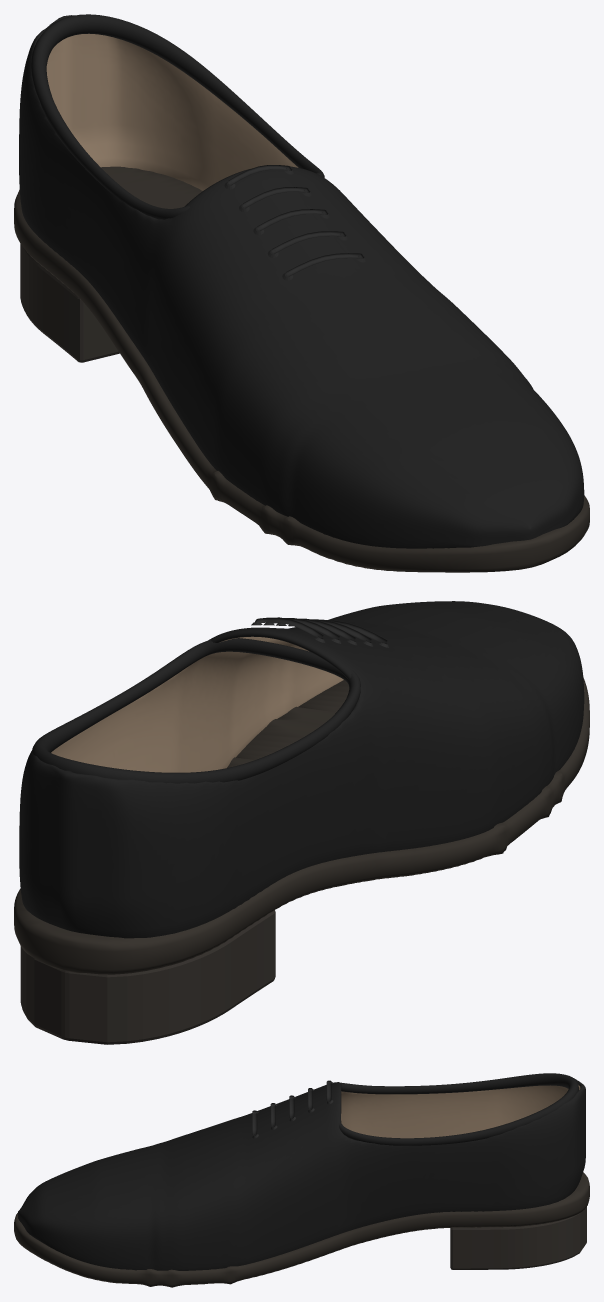
Rendered from studio-derby.glb.
The picture shows the model from 3 angles, top to bottom: view 1: azimuth 30°, elevation 25°; view 2: azimuth 150°, elevation 25°; view 3: azimuth 270°, elevation 25°; orthographic projection. The views are drawn at different scales.
Parts seen in each view (by area): view 1: Upper, Sole, Collar, Heel, Laces; view 2: Upper, Sole, Heel, Collar, Laces; view 3: Upper, Sole, Heel, Collar, Laces.
Part boxes in pixels (<box>): Upper: <box>19,15,584,548</box>; Sole: <box>14,166,589,572</box>; Collar: <box>31,14,324,219</box>; Heel: <box>20,243,119,362</box>; Laces: <box>228,165,364,276</box>; Upper: <box>19,601,584,938</box>; Sole: <box>14,677,589,974</box>; Heel: <box>20,910,275,1044</box>; Collar: <box>32,638,360,783</box>; Laces: <box>254,617,387,643</box>; Upper: <box>18,1078,585,1270</box>; Sole: <box>14,1172,589,1287</box>; Heel: <box>450,1207,586,1269</box>; Collar: <box>339,1073,578,1145</box>; Laces: <box>252,1080,331,1135</box>.
Bounding box in the file's own units: 0.1039 × 0.0921 × 0.2984.
